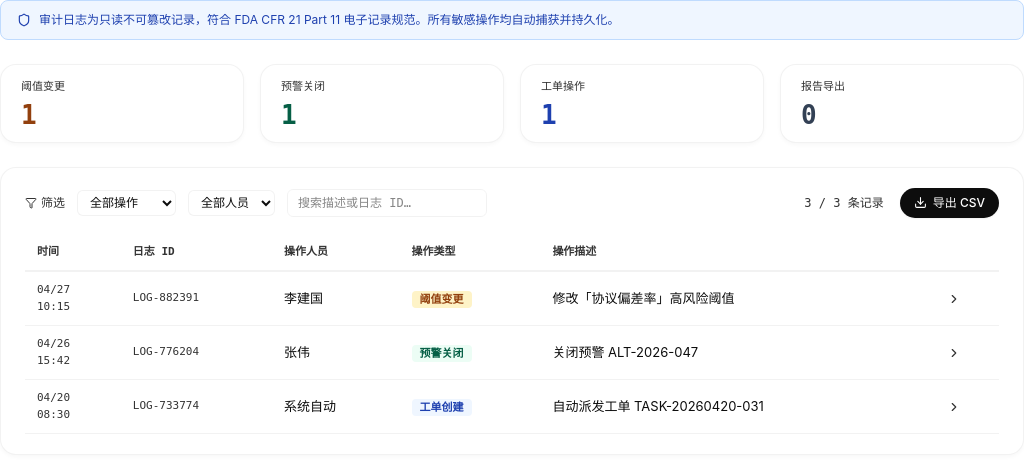
Test: AuditTrail › filters by user name
Step 1. Select "张伟" in the dropdown named "操作人员" → (232, 202), box [188,190,275,216]
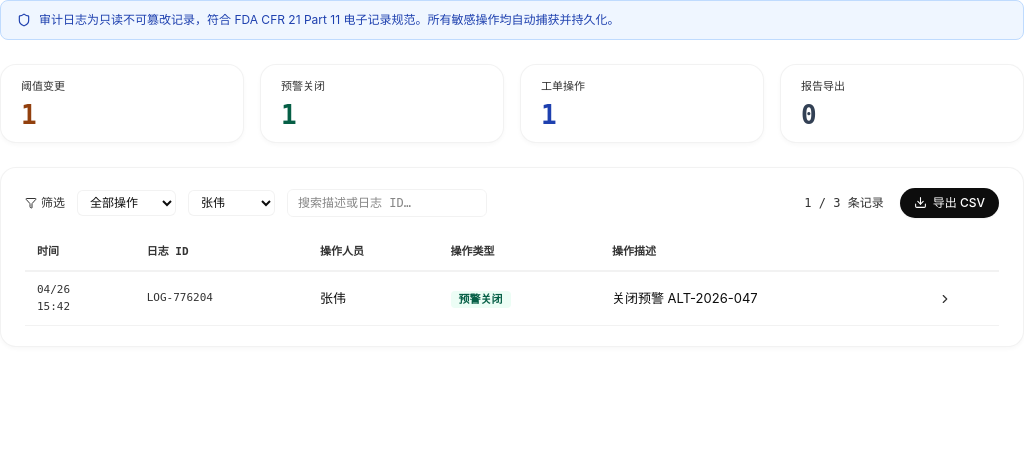
expect the text "张伟" is shown: met, box [308,271,439,326]
expect the text "1 / 3 条记录" is shown: met, box [804,194,884,212]
expect the text "李建国" is gone: met
